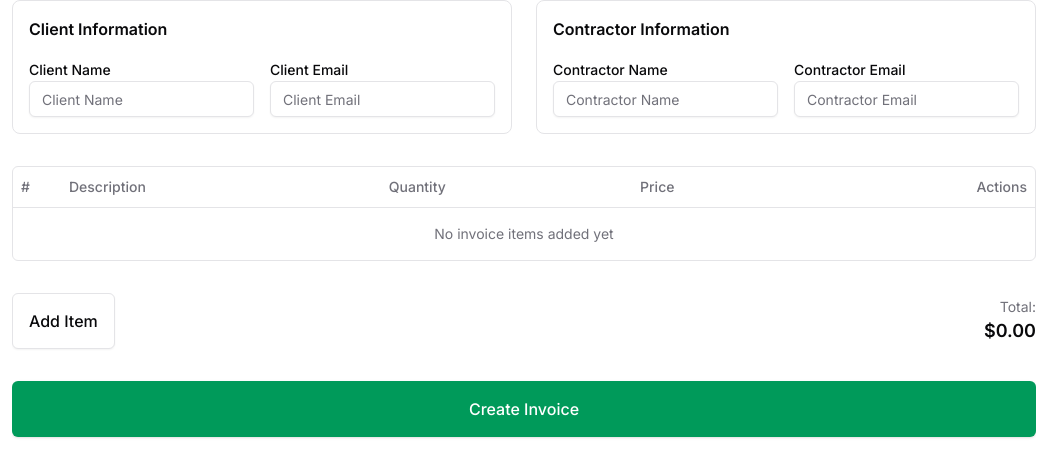
InvoiceForm Component › calculates total price when item price changes
Add an item
Click the button "Add Item" at (63, 320), box [12,292,115,348]
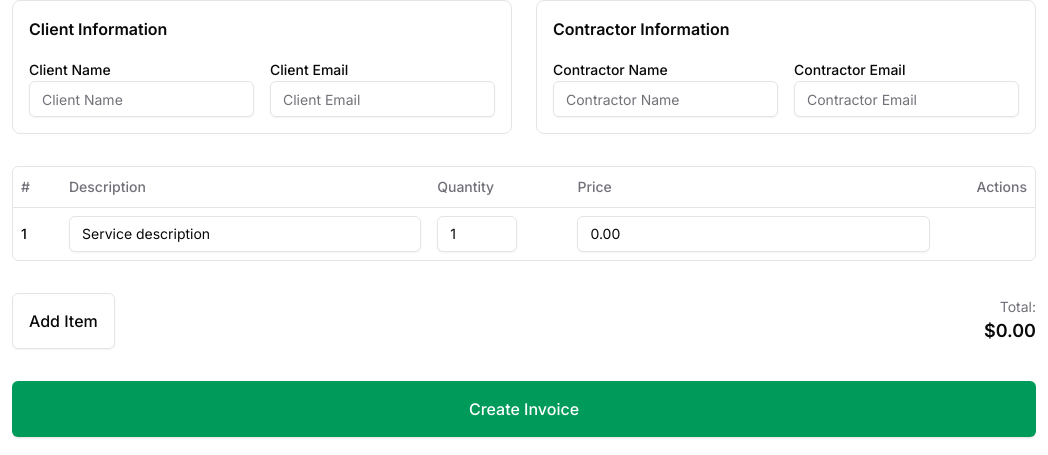
Set quantity to 2
Replace the text in the 1st number field with "2" at (477, 234), box [437,216,517,252]
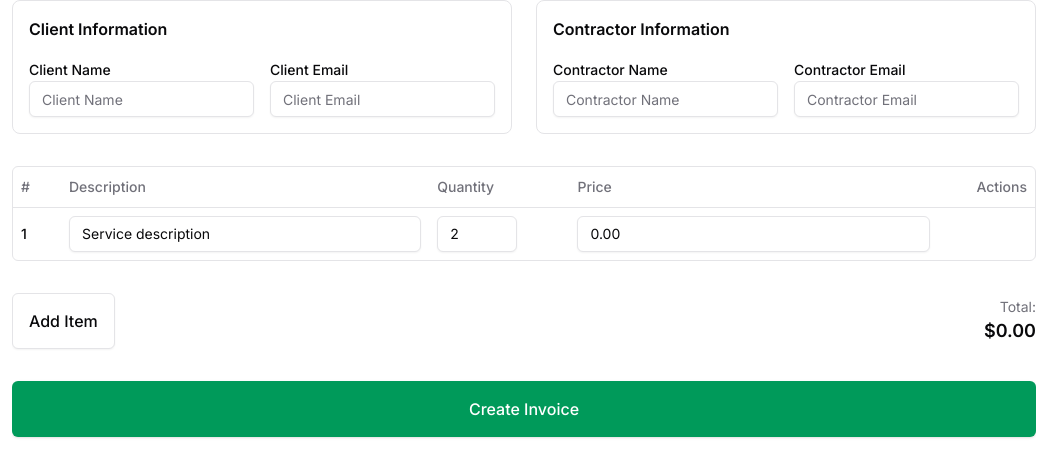
Set price to 50
Replace the text in the 2nd number field with "50" at (754, 234), box [578,216,930,252]
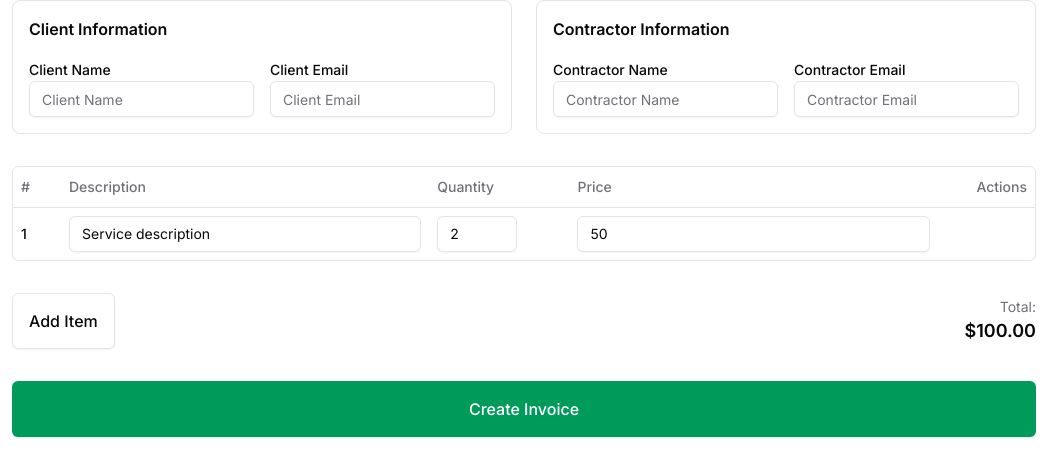
Result: the text "$100.00" is shown at [964,316,1036,344]
